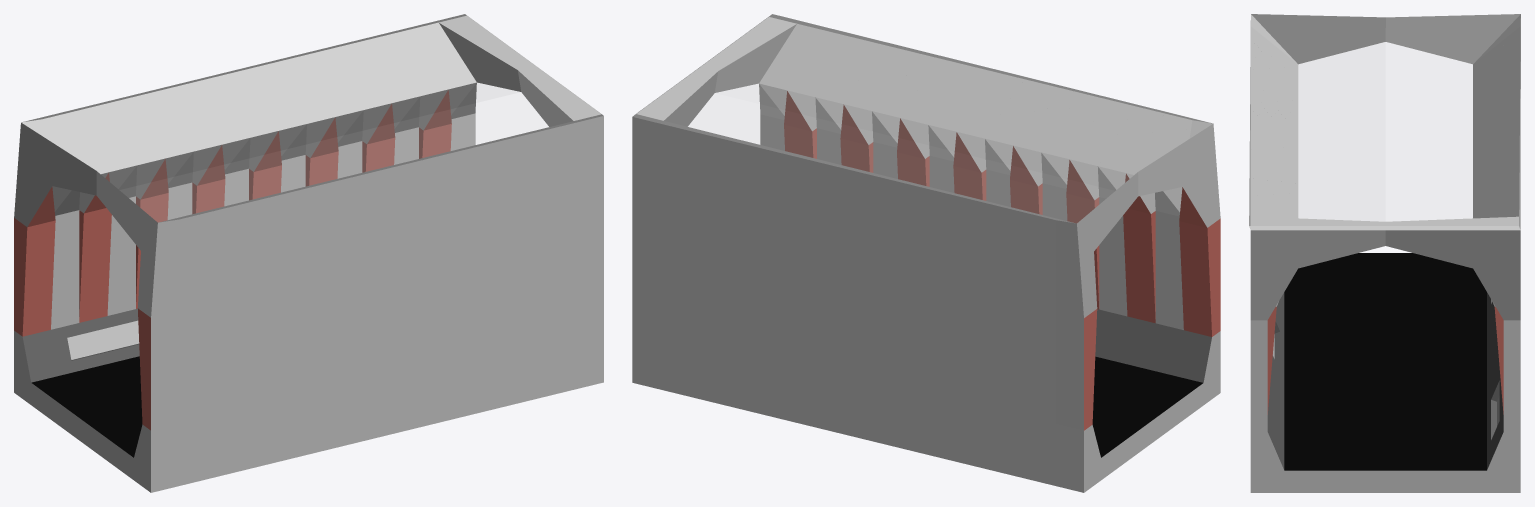
3 renders of one model, left to right at view 1: azimuth 30°, elevation 25°; view 2: azimuth 150°, elevation 25°; view 3: azimuth 270°, elevation 25°, orthographic.
Parts seen in each view (by area): view 1: Cube; view 2: Cube; view 3: Cube.
Part boxes in pixels (box(x1,y1,x2,y2)): Cube: box(14, 14, 603, 492); Cube: box(632, 14, 1220, 492); Cube: box(1249, 14, 1520, 492).
Size of the model in its own units: 840 by 478 by 443.
